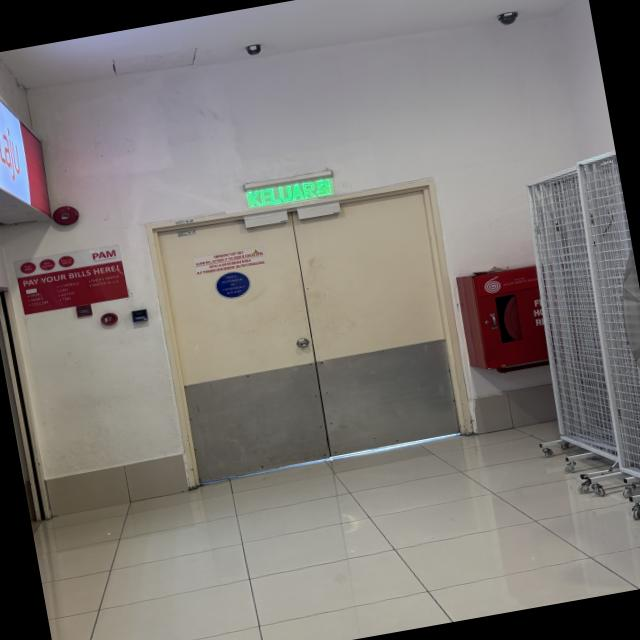door: (139, 176, 481, 493)
